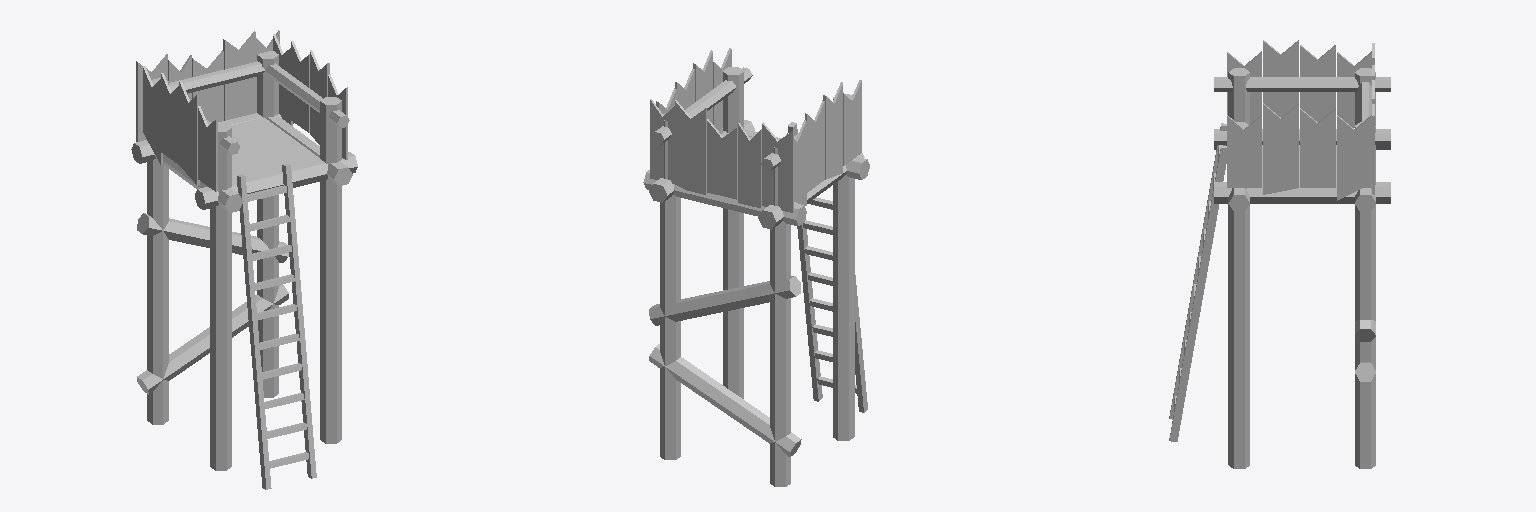
Rendered from watchtower.obj.
3 views of the same model, side by side, from view 1: azimuth 30°, elevation 25°; view 2: azimuth 150°, elevation 25°; view 3: azimuth 270°, elevation 25° (orthographic).
Parts seen in each view (by area): view 1: obj1, obj4, obj3, obj2; view 2: obj1, obj4, obj3, obj2; view 3: obj1, obj4, obj3, obj2.
Boxes of the visible parts, <box> form: obj1: <box>135,31,357,489</box>; obj4: <box>143,34,347,191</box>; obj3: <box>136,30,309,164</box>; obj2: <box>131,51,352,394</box>; obj1: <box>643,50,867,486</box>; obj4: <box>656,48,861,209</box>; obj3: <box>650,69,824,212</box>; obj2: <box>649,67,869,456</box>; obj1: <box>1169,40,1390,468</box>; obj4: <box>1227,51,1374,200</box>; obj3: <box>1300,43,1374,194</box>; obj2: <box>1228,68,1375,381</box>.
Bounding box in the file's own units: 2.75 × 6.31 × 3.44.